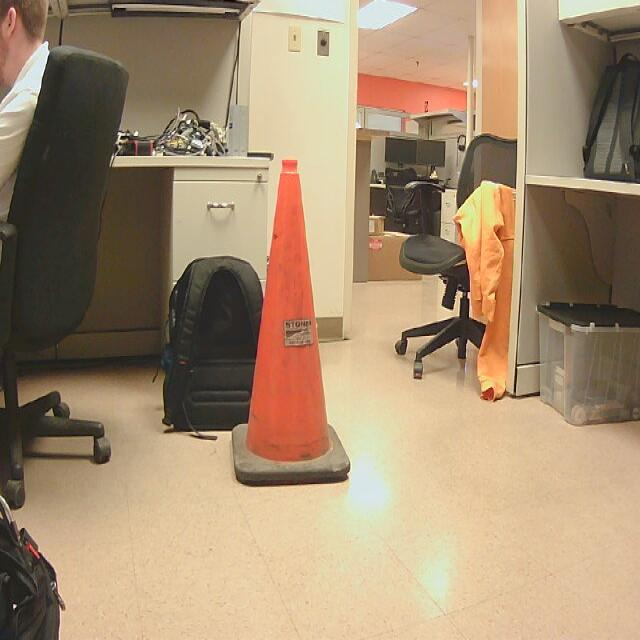traffic cone: (233, 160, 352, 489)
